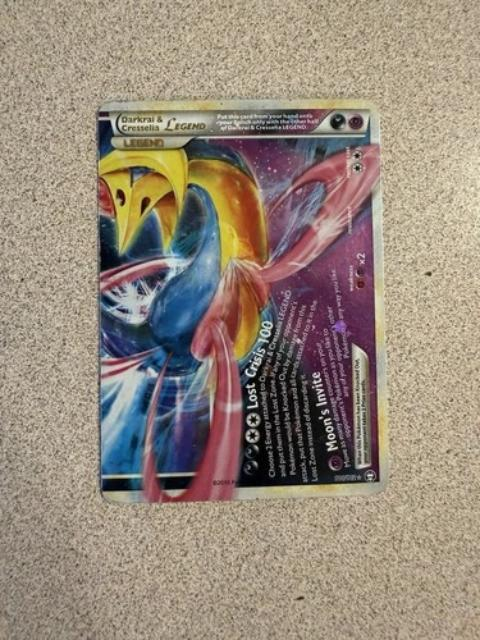Card: (94, 96, 392, 507)
Name: (116, 112, 211, 137)
